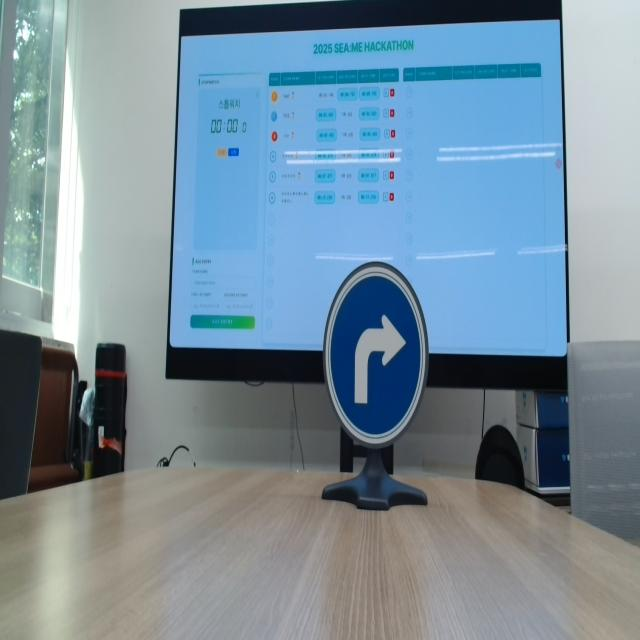right_dierection: (318, 256, 432, 445)
